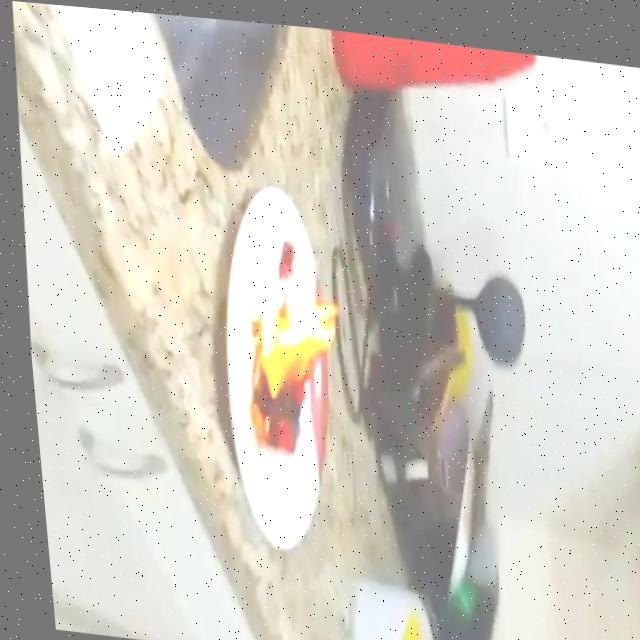Fire: (240, 282, 340, 392)
